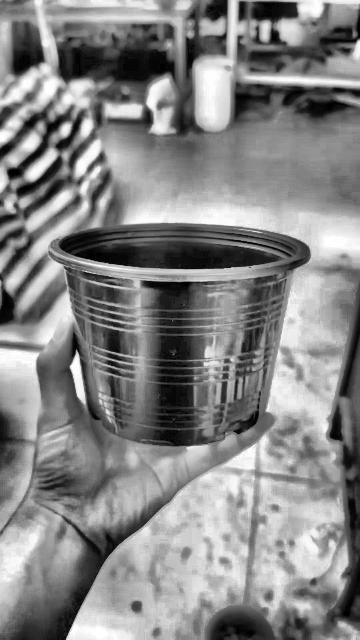pot: (49, 224, 309, 446)
